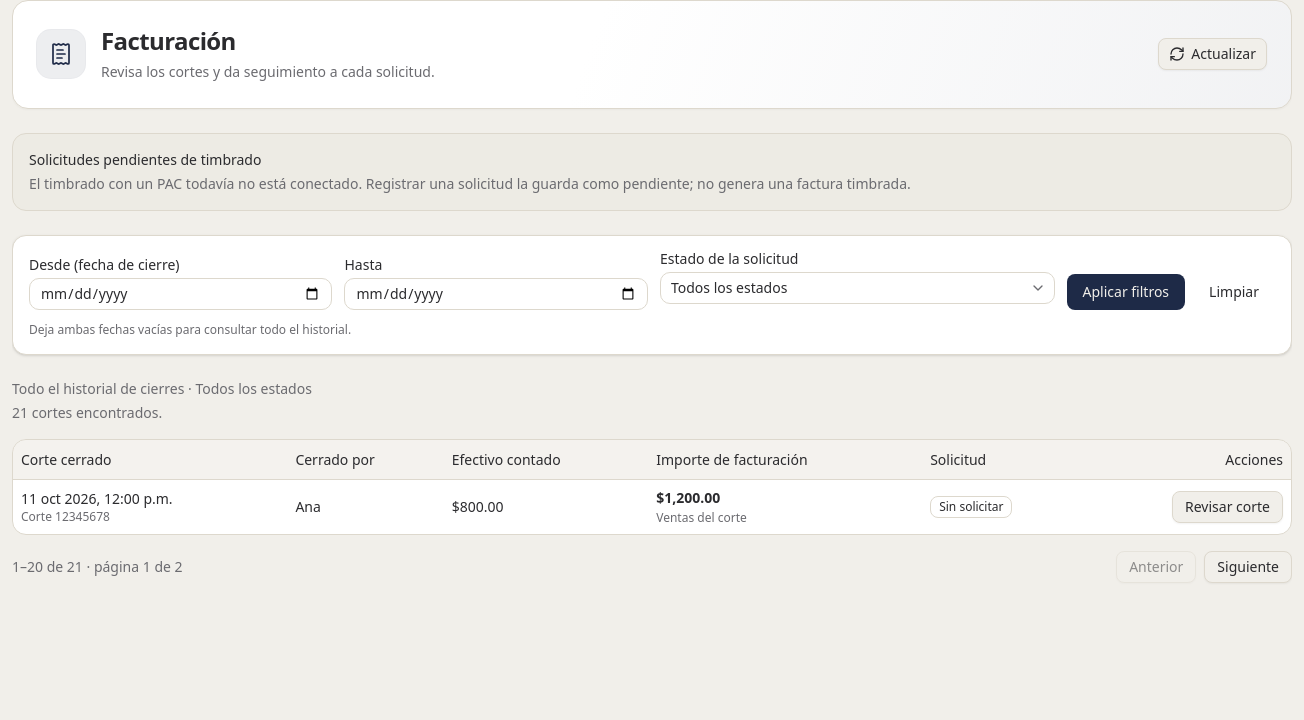
Test: conserva la consulta anterior al fallar filtros y no deja operar con datos desactualizados
The image size is (1304, 720).
Expected: the text "21 cortes encontrados." is shown, [12,403,162,422]
Click the button "Siguiente" at (1248, 567), box [1204,551,1292,583]
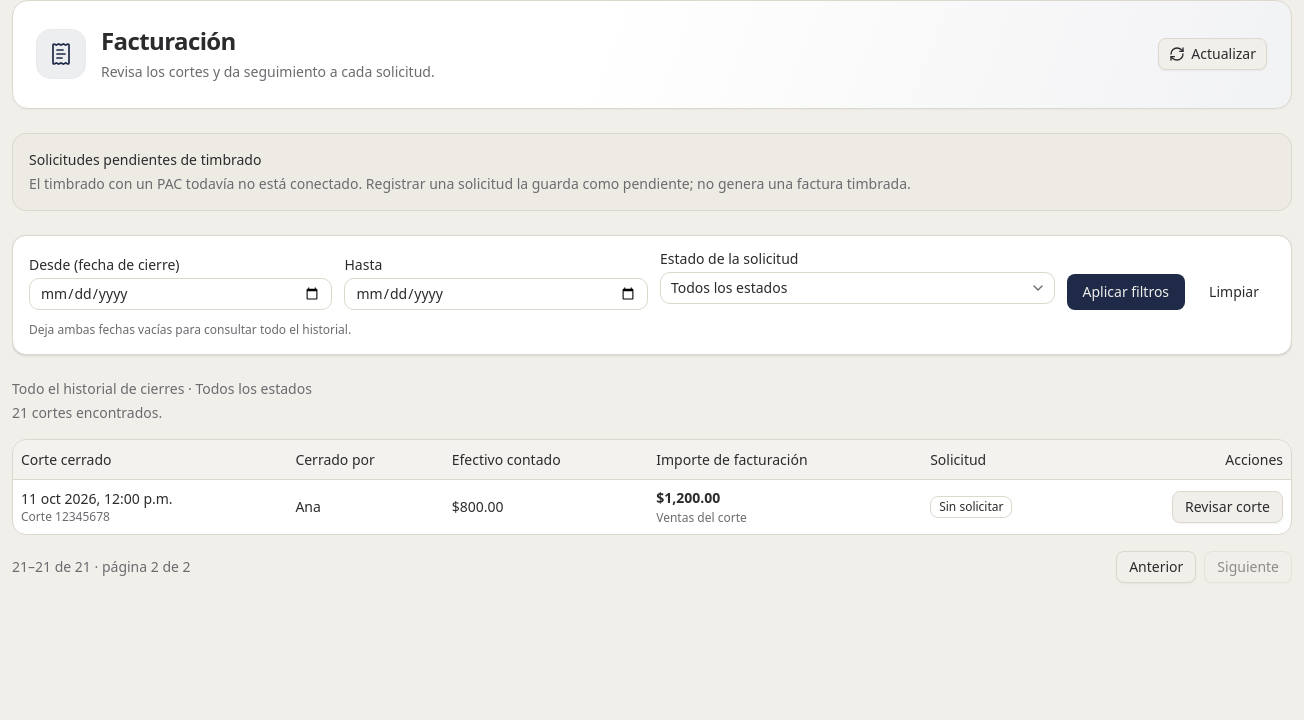
Expected: the button "Aplicar filtros" is enabled, [1066,274,1185,310]
Type "2026-10-01" into the date field labelled "Desde (fecha de cierre)" at (181, 294), box [29,278,332,310]
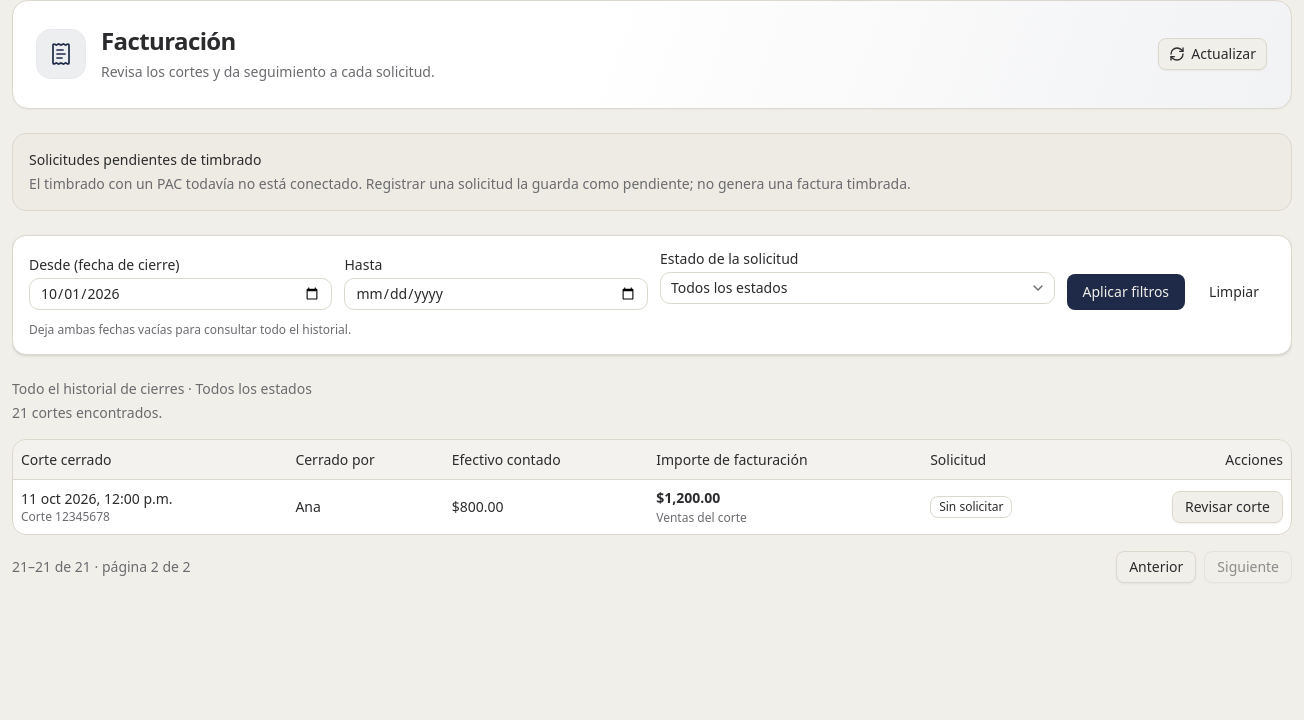
Type "2026-10-11" into the date field labelled "Hasta" at (496, 294), box [344,278,648,310]
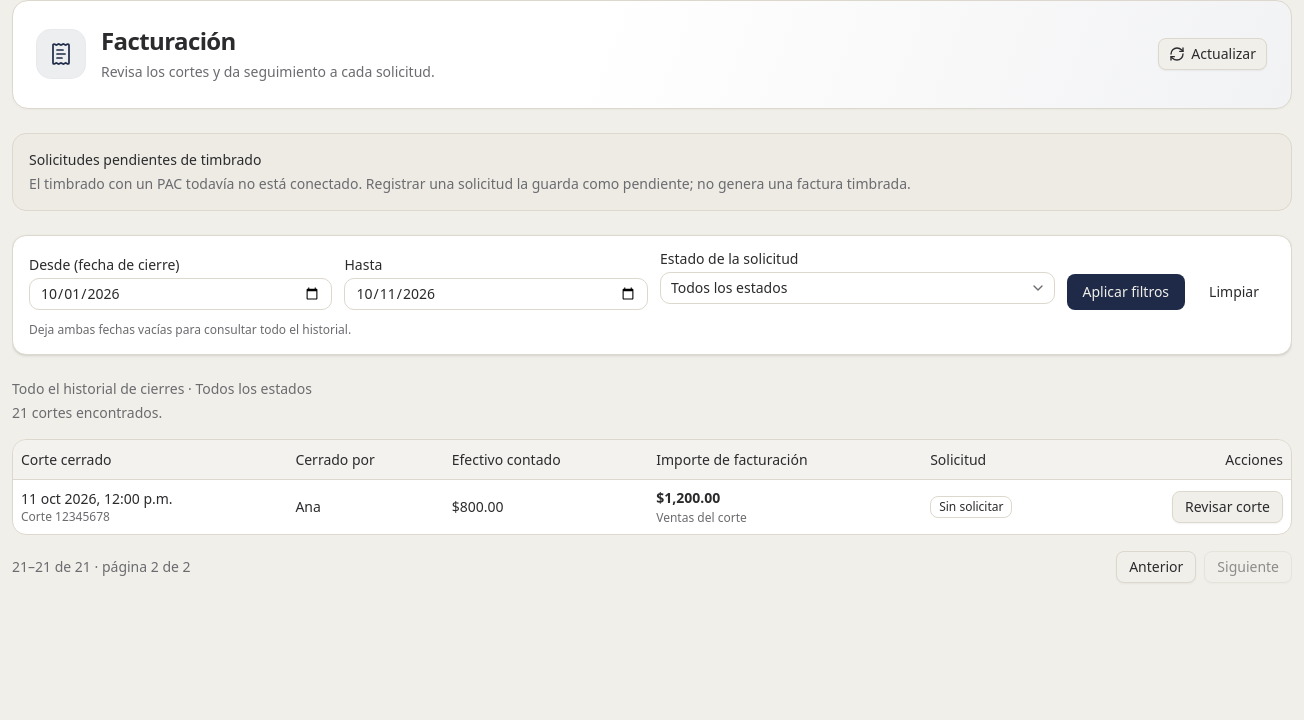
Click the button "Aplicar filtros" at (1126, 292), box [1066,274,1185,310]
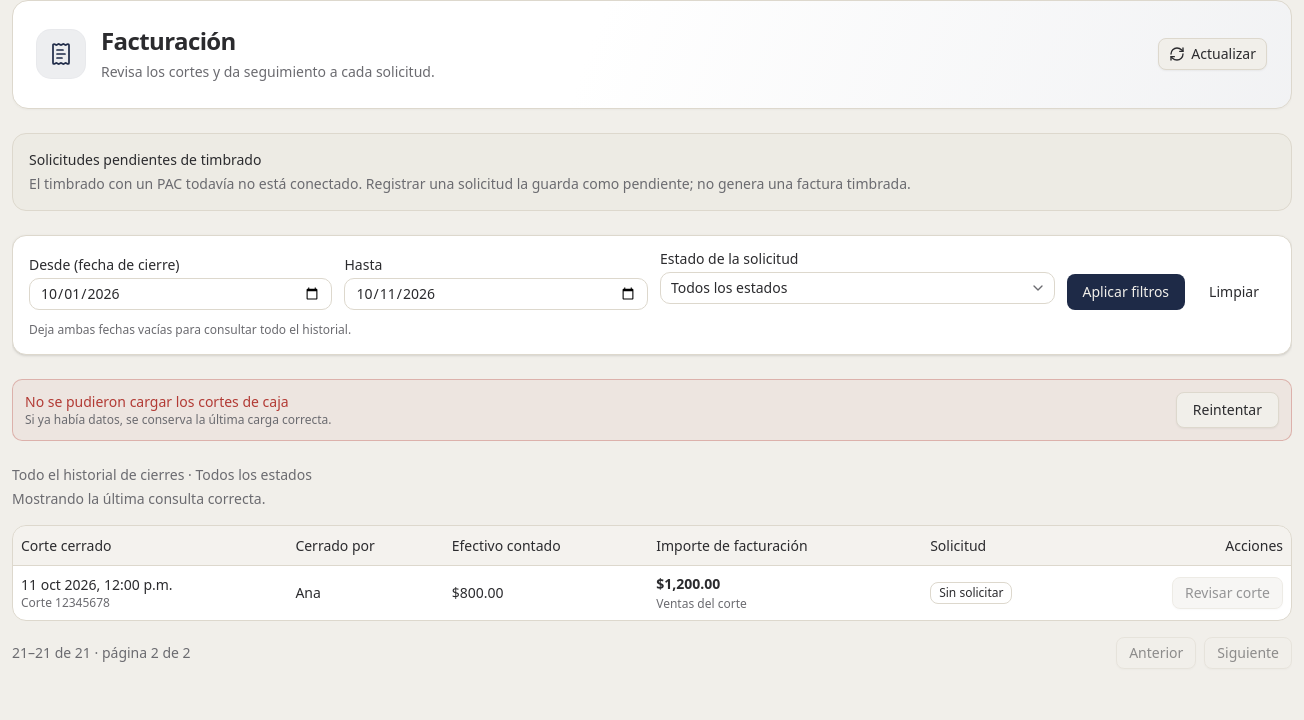
Expected: the button "Anterior" is disabled, [1116,637,1196,669]
Expected: the message that starts with "No se pudieron cargar los cortes de caja" is shown, [12,379,1292,441]
Expected: the text "Mostrando la última consulta correcta." is shown, [12,489,265,508]
Click the button "Reintentar" at (1227, 410), box [1176,392,1279,428]
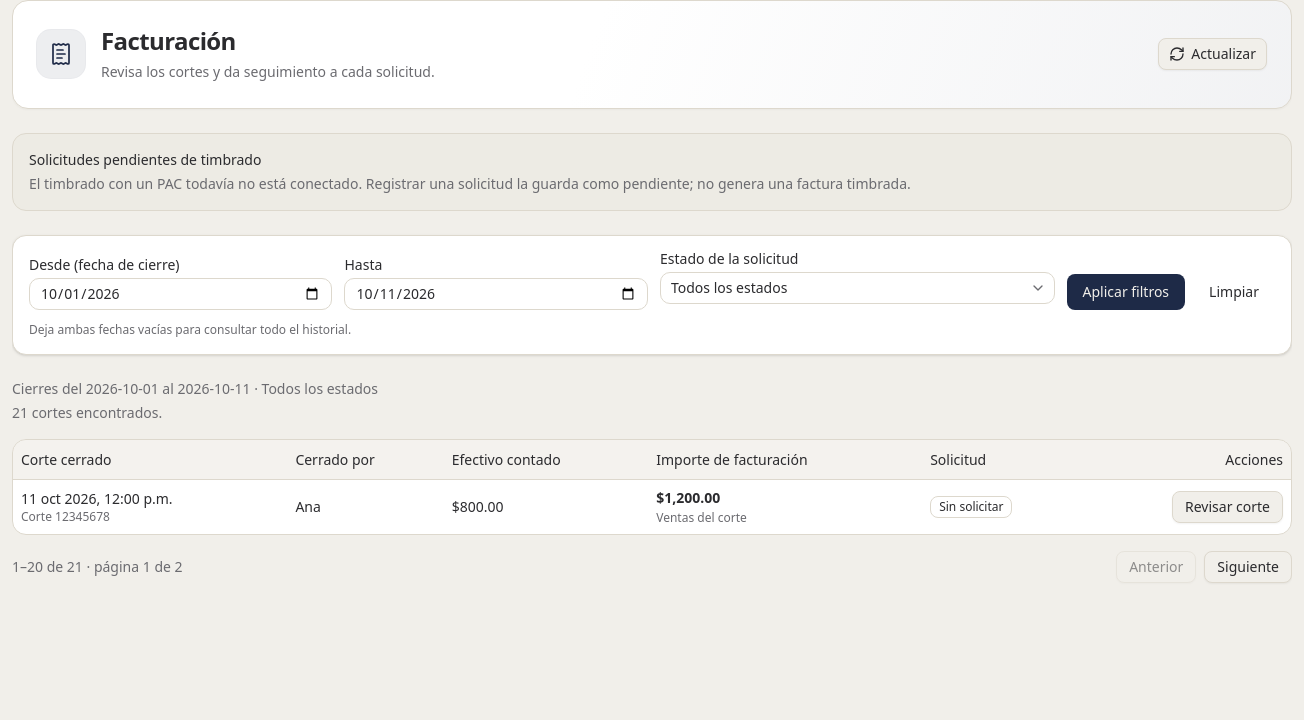
Expected: the text "Cierres del 2026-10-01 al 2026-10-11 · Todos los estados" is shown, [12,379,378,398]
Expected: the button "Siguiente" is enabled, [1204,551,1292,583]
